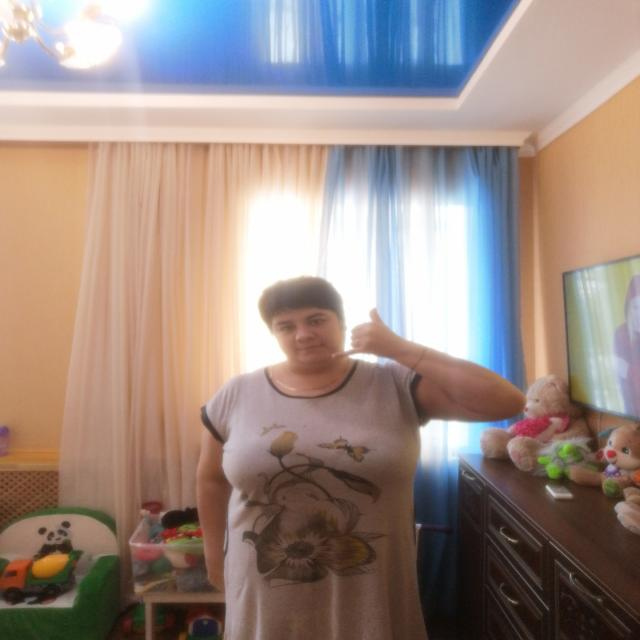call: (329, 304, 403, 364)
